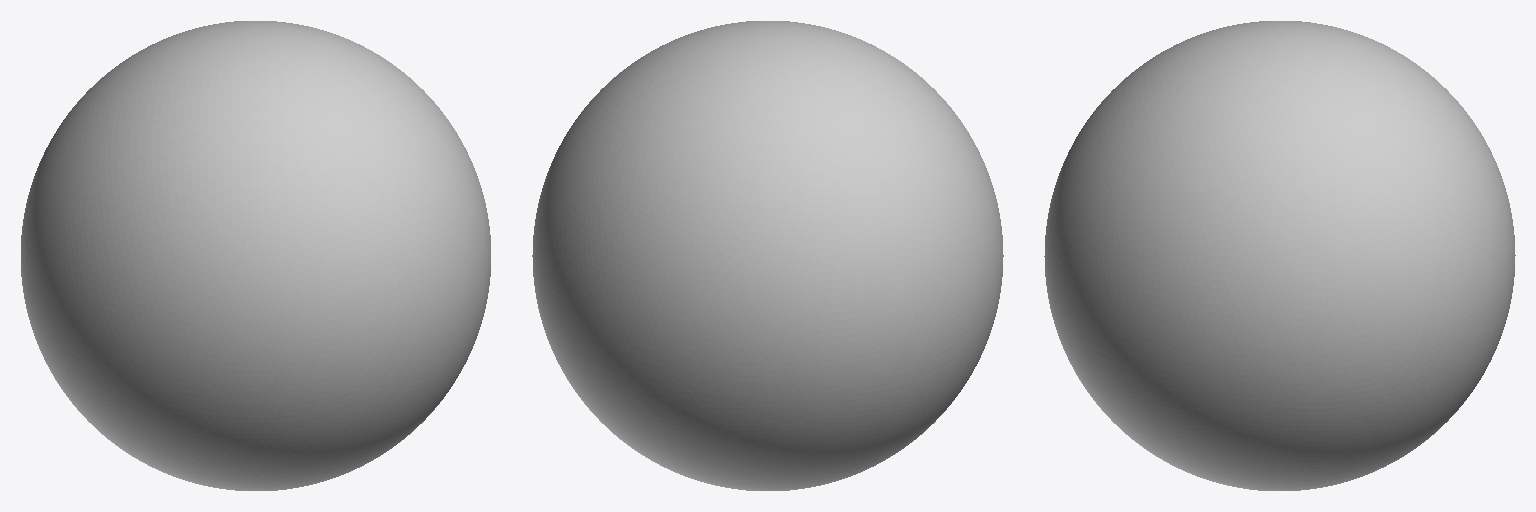
The model's file is Pluton.obj.
3 views of the same model, side by side, from view 1: azimuth 30°, elevation 25°; view 2: azimuth 150°, elevation 25°; view 3: azimuth 270°, elevation 25° (orthographic).
Parts seen in each view (by area): view 1: Pluto; view 2: Pluto; view 3: Pluto.
Boxes of the visible parts, box(x1,y1,x2,y2) form: Pluto: box(21, 21, 490, 490); Pluto: box(532, 21, 1003, 490); Pluto: box(1044, 21, 1515, 490).
Size of the model in its own units: 2.02 by 2.02 by 2.02.